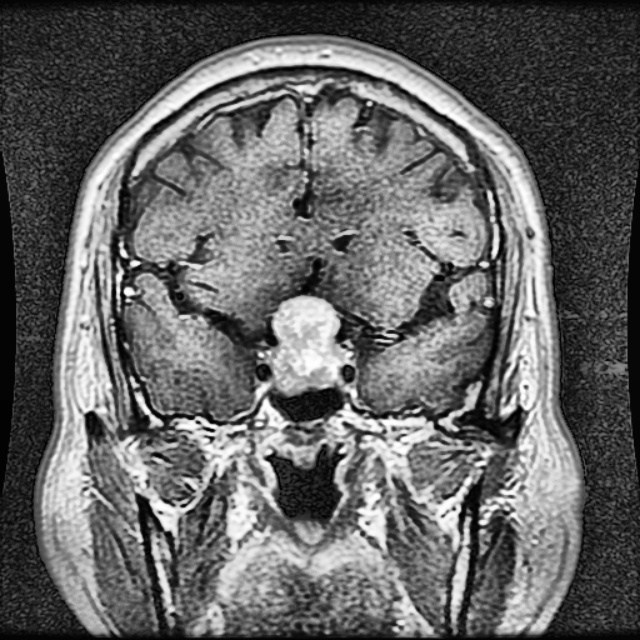Pituitary: (269, 297, 342, 388)
